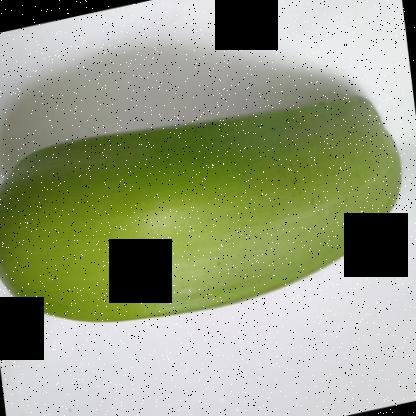freshunripe: (1, 80, 409, 333)
